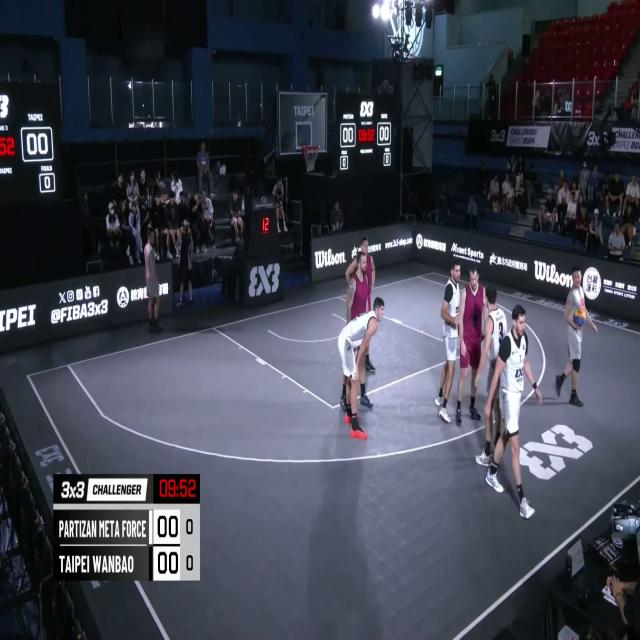ball: (574, 304, 590, 329)
hoop: (302, 143, 318, 174)
player: (471, 282, 511, 468), (340, 297, 383, 440), (455, 264, 489, 430), (436, 260, 460, 424), (346, 239, 375, 373), (345, 253, 373, 343)
